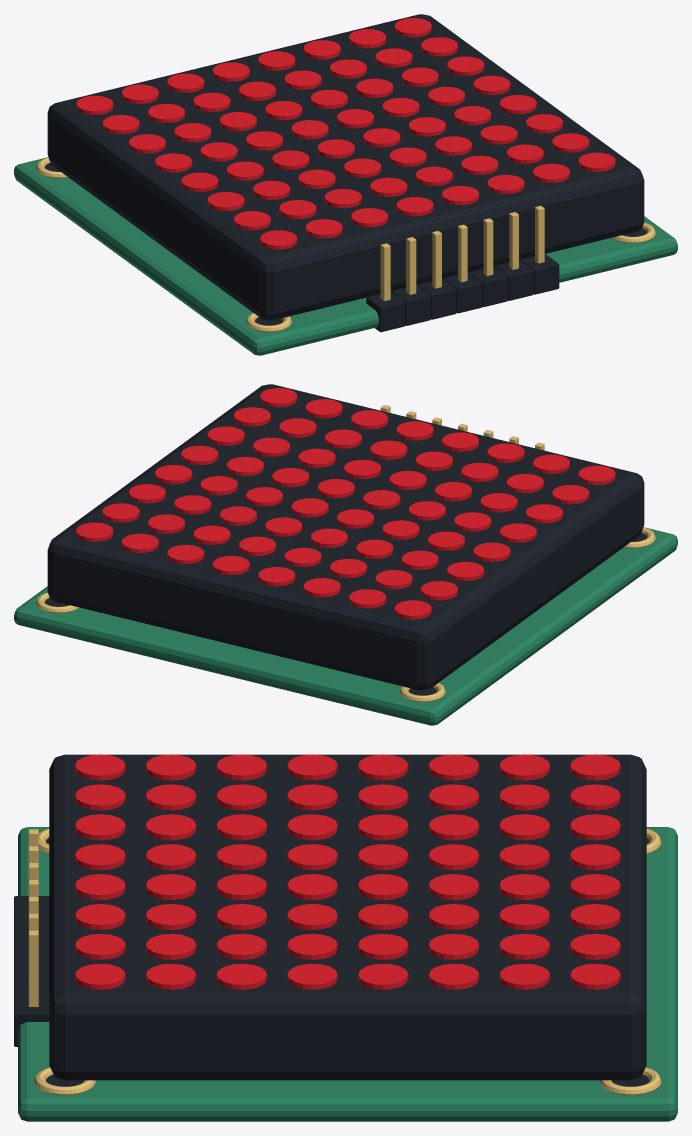
The model's file is led-matrix.glb.
The picture shows the model from 3 angles, top to bottom: view 1: azimuth 30°, elevation 25°; view 2: azimuth 150°, elevation 25°; view 3: azimuth 270°, elevation 25°; orthographic projection. The views are drawn at different scales.
Parts seen in each view (by area): view 1: Static body • black, Static body • red, Static body • greenPCB, Static body • gold; view 2: Static body • black, Static body • red, Static body • greenPCB, Static body • gold; view 3: Static body • black, Static body • red, Static body • greenPCB, Static body • gold.
Part boxes in pixels (left/top/right/bottom): Static body • black: left=45, top=14, right=646, bottom=332; Static body • red: left=76, top=18, right=615, bottom=249; Static body • greenPCB: left=14, top=157, right=677, bottom=355; Static body • gold: left=36, top=157, right=655, bottom=331; Static body • black: left=45, top=384, right=646, bottom=695; Static body • red: left=76, top=388, right=615, bottom=619; Static body • greenPCB: left=14, top=527, right=677, bottom=725; Static body • gold: left=36, top=405, right=655, bottom=701; Static body • black: left=14, top=754, right=649, bottom=1086; Static body • red: left=75, top=754, right=620, bottom=989; Static body • greenPCB: left=18, top=827, right=677, bottom=1121; Static body • gold: left=28, top=828, right=661, bottom=1095.
Size of the model in its own units: 42 by 8.35 by 42.25.
